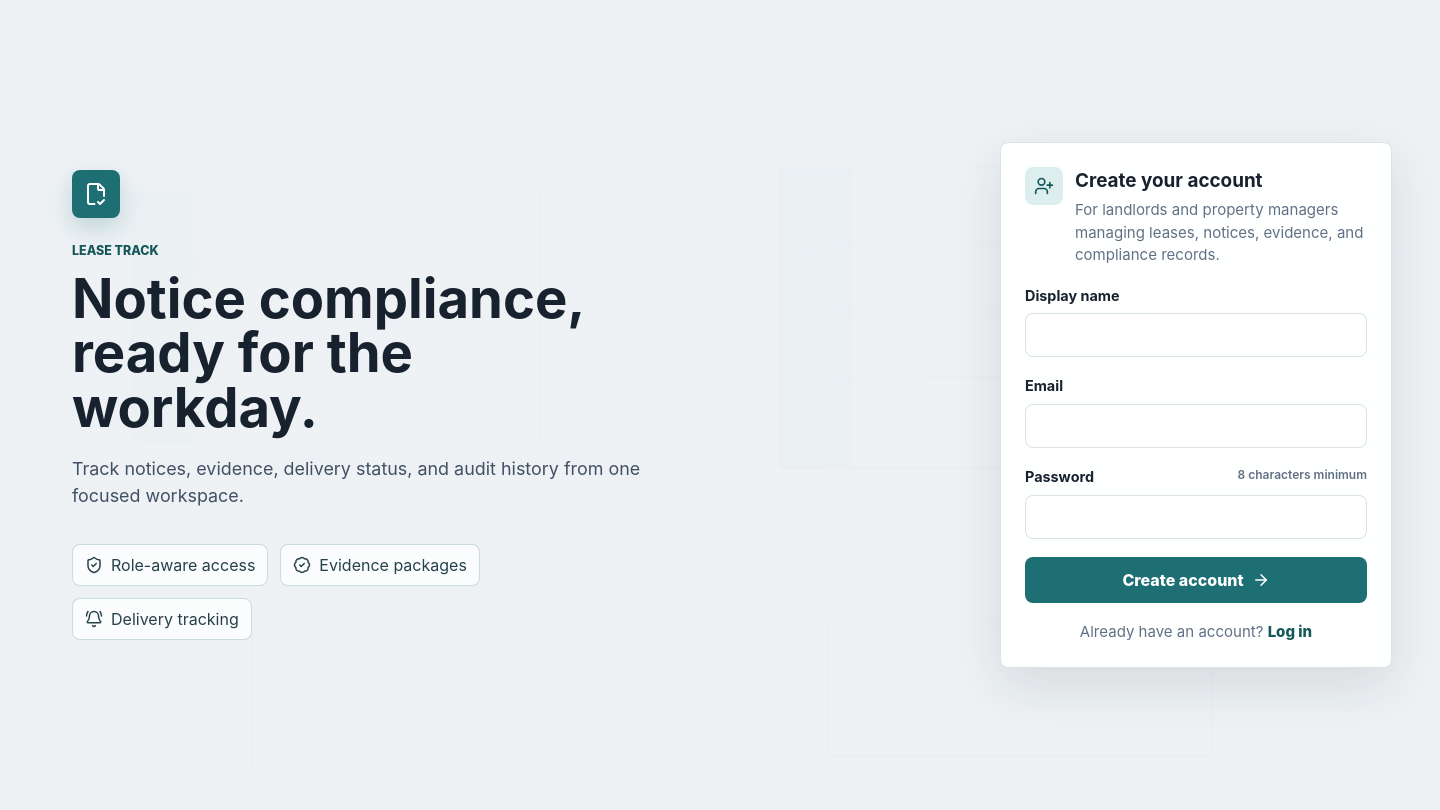
Test: App auth routes › surfaces backend registration errors without bootstrap copy
Type "Avery Manager" into the field labelled "Display name" at [1196, 335], box [1025,313,1367,357]
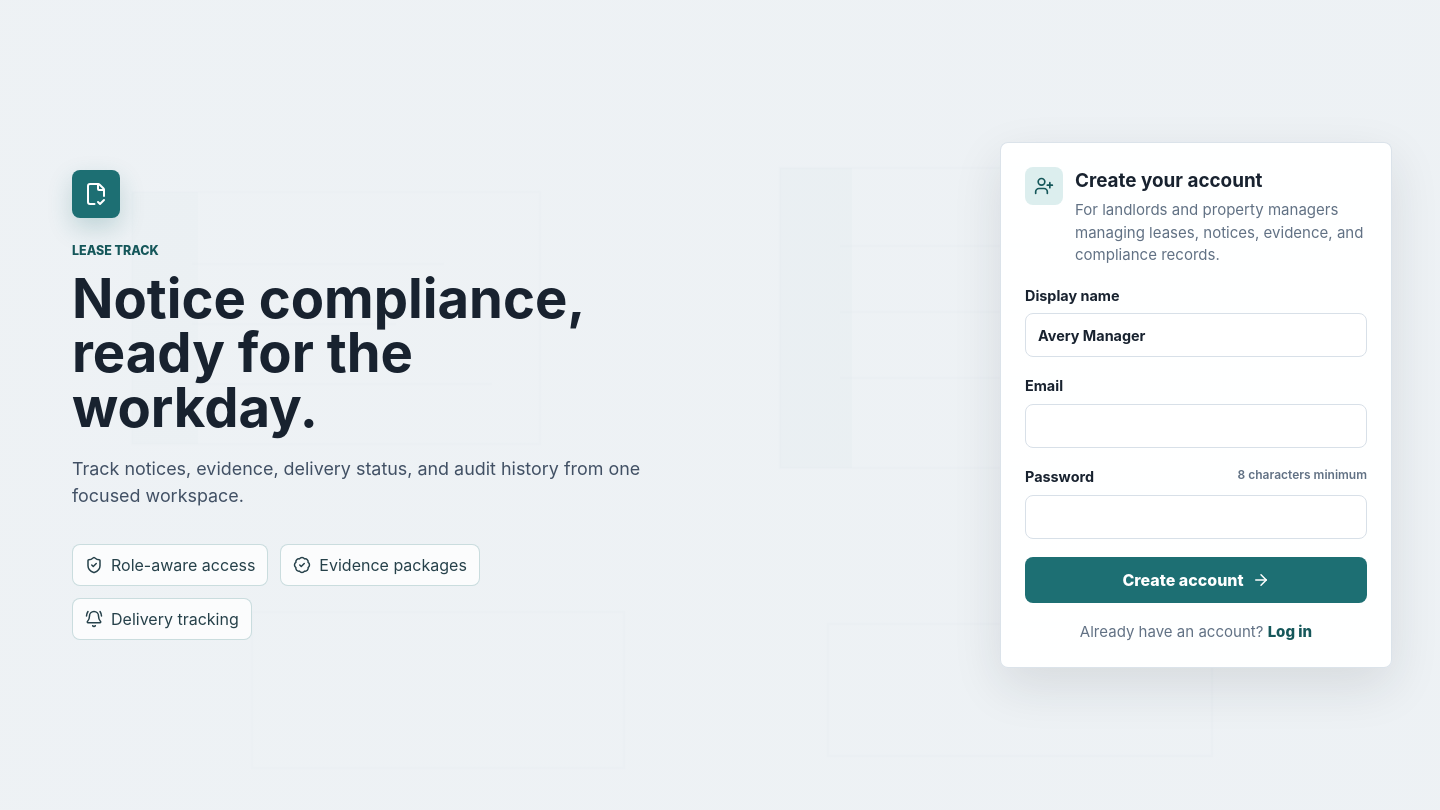
Type "avery@example.com" into the field labelled "Email" at [1196, 426], box [1025,404,1367,448]
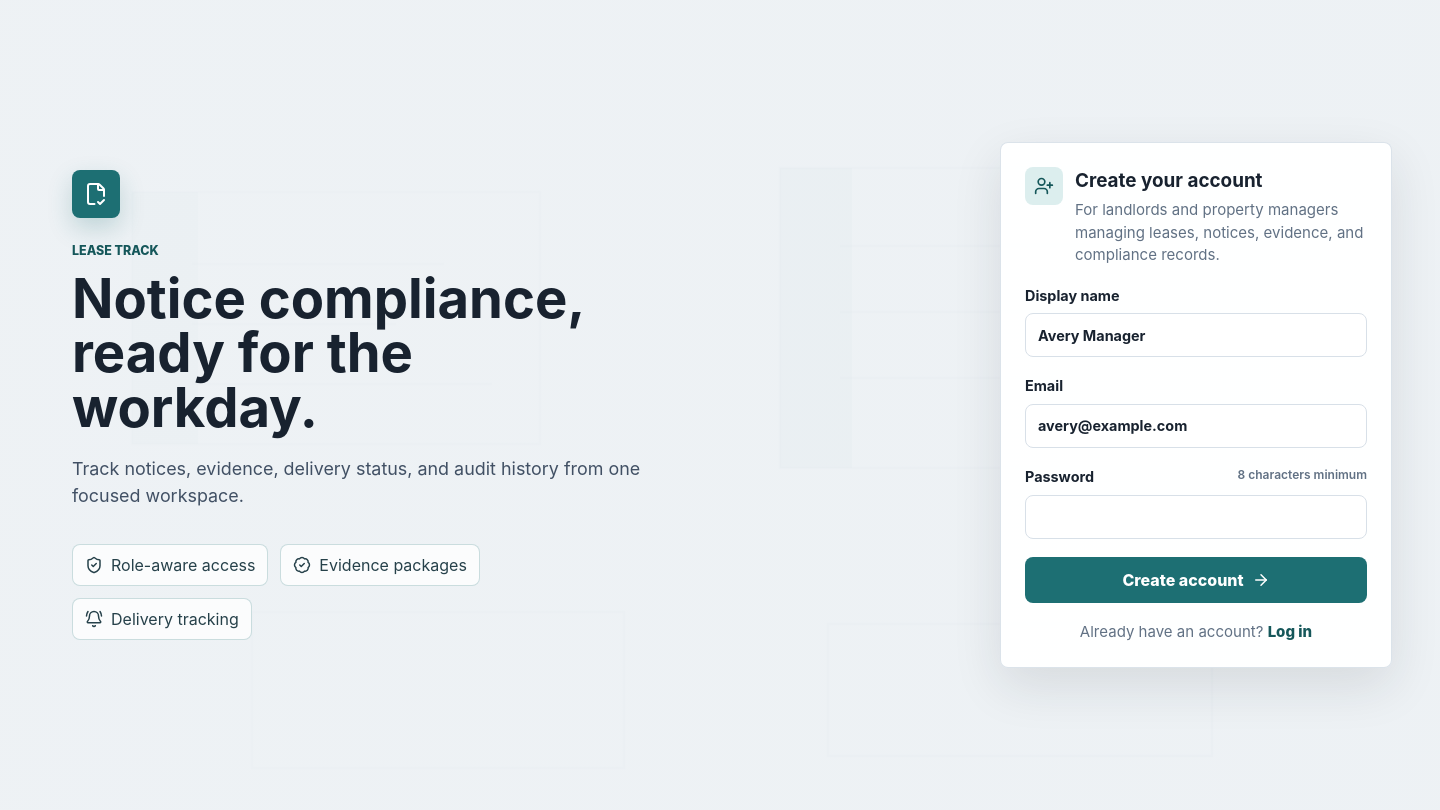
Type "password123" into the password field labelled "Password 8 characters minimum" at [1196, 517], box [1025,495,1367,539]
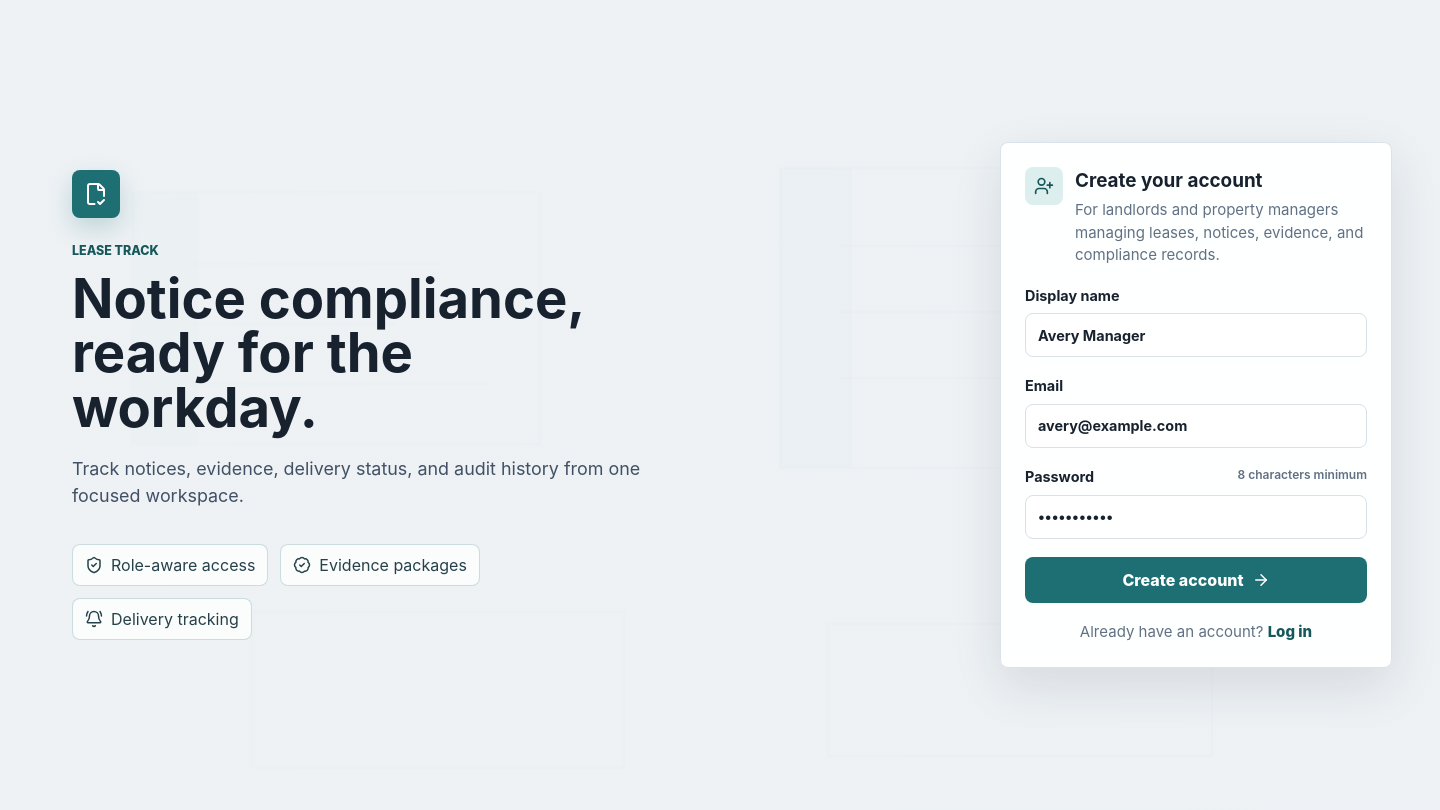
Click the button "Create account" at [1196, 580], box [1025,557,1367,603]
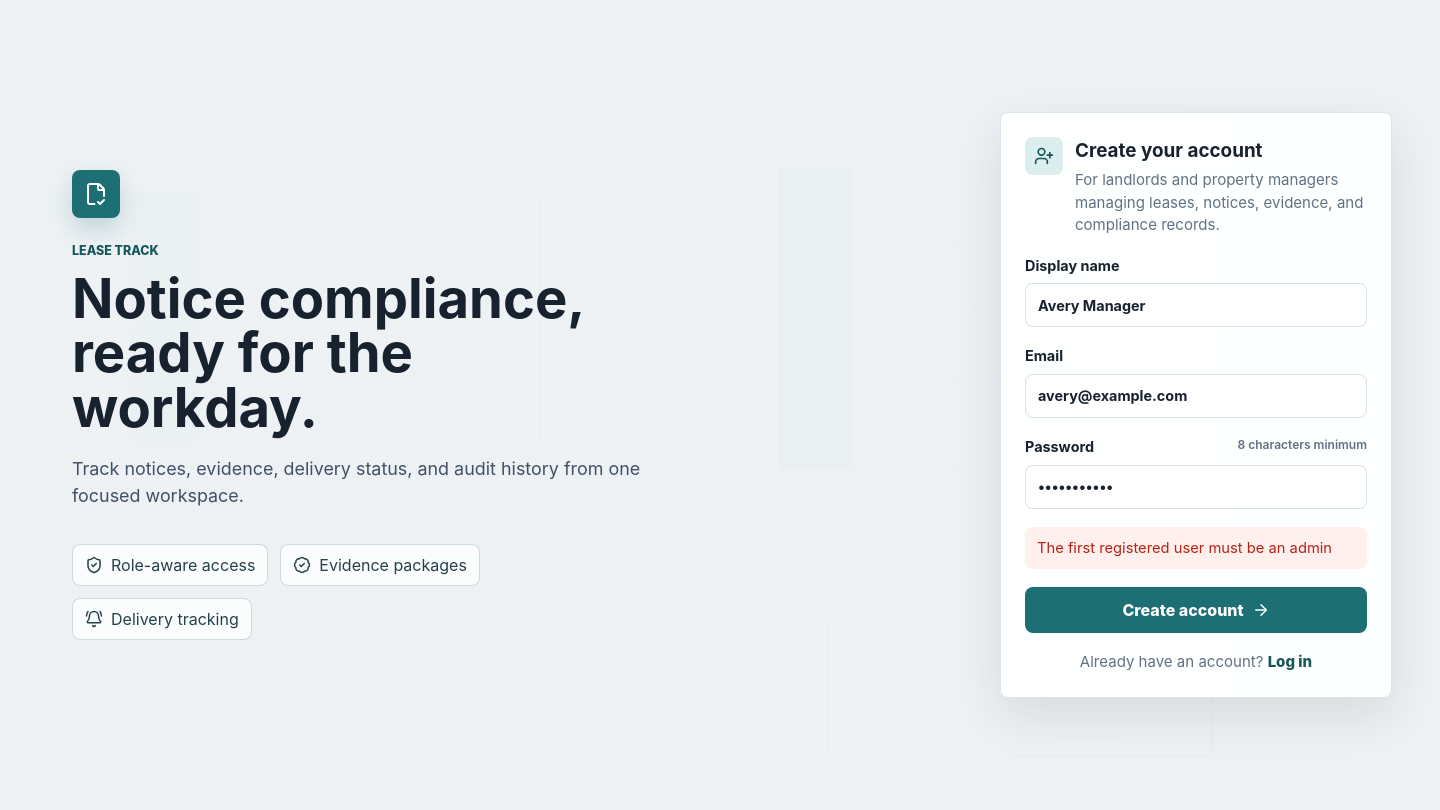
Check: the message reads "The first registered user must be an admin", box [1037,539,1332,557]
